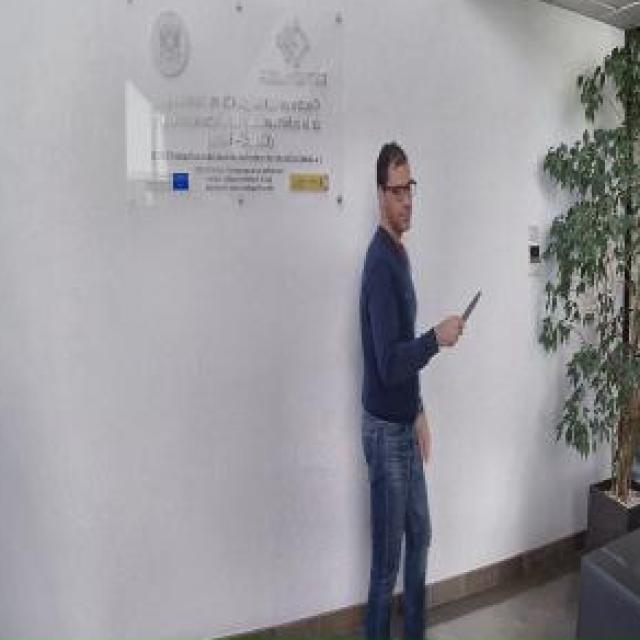knife: (452, 287, 484, 340)
